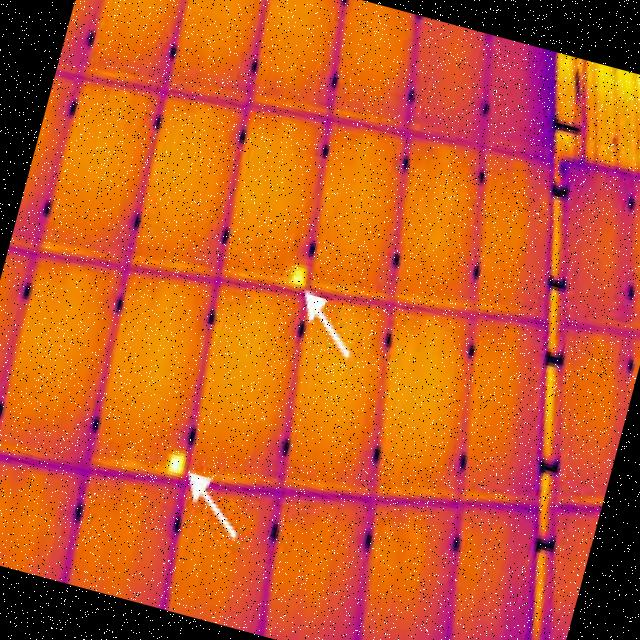Hotspot: (285, 262, 309, 290), (164, 450, 186, 480)
